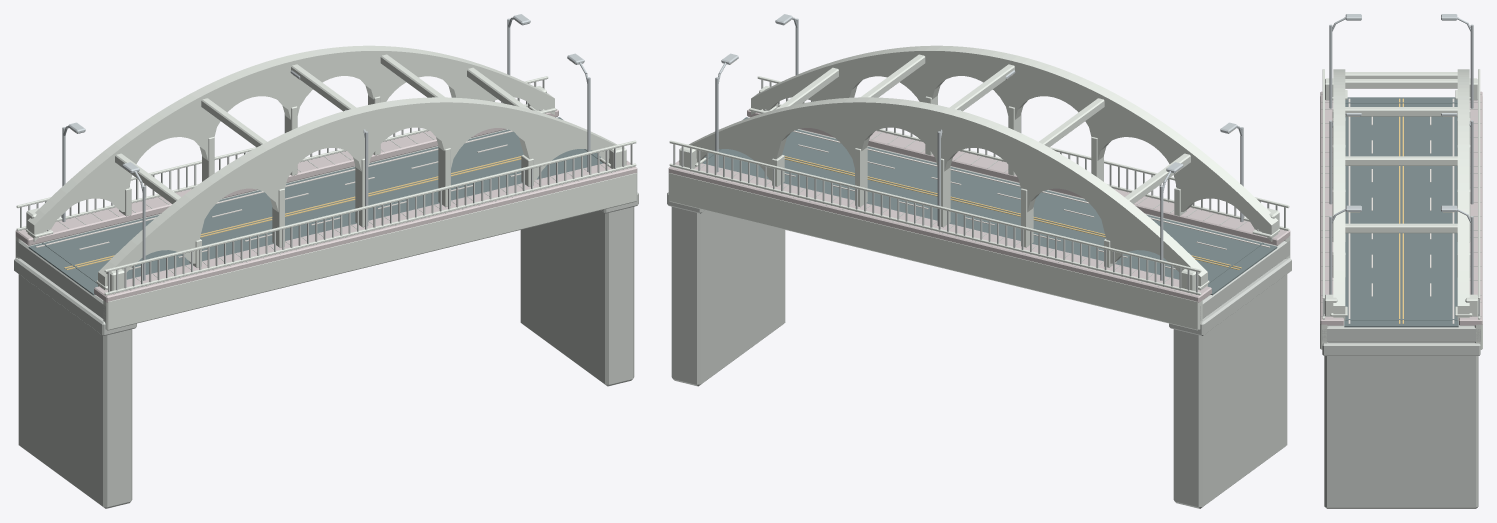
Rendered from haibang.glb.
3 views of the same model, side by side, from view 1: azimuth 30°, elevation 25°; view 2: azimuth 150°, elevation 25°; view 3: azimuth 270°, elevation 25° (orthographic). The views are drawn at different scales.
Visible parts, largest first — view 1: haibang_concrete.002; view 2: haibang_concrete.002; view 3: haibang_concrete.002.
Part boxes in pixels (<box>): haibang_concrete.002: <box>14,14,638,508</box>; haibang_concrete.002: <box>667,14,1291,508</box>; haibang_concrete.002: <box>1320,14,1482,508</box>.
Bounding box in the file's own units: 8.09 × 4.75 × 2.41.
1 material, 1 textured.
